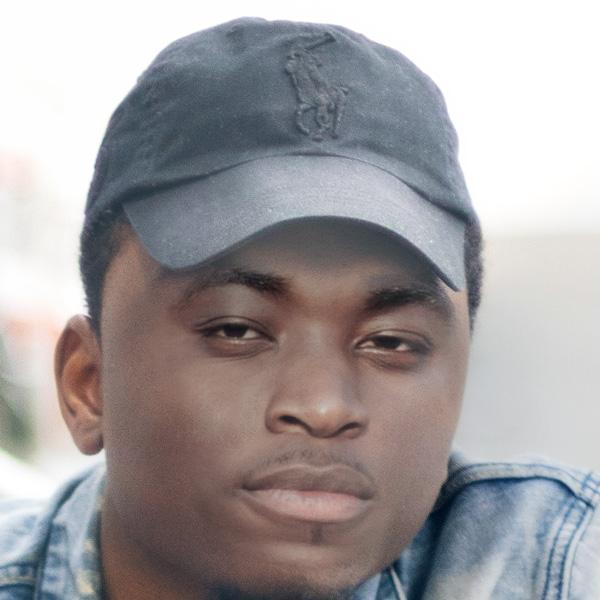Eyes: (188, 296, 281, 360), (344, 316, 439, 375)
